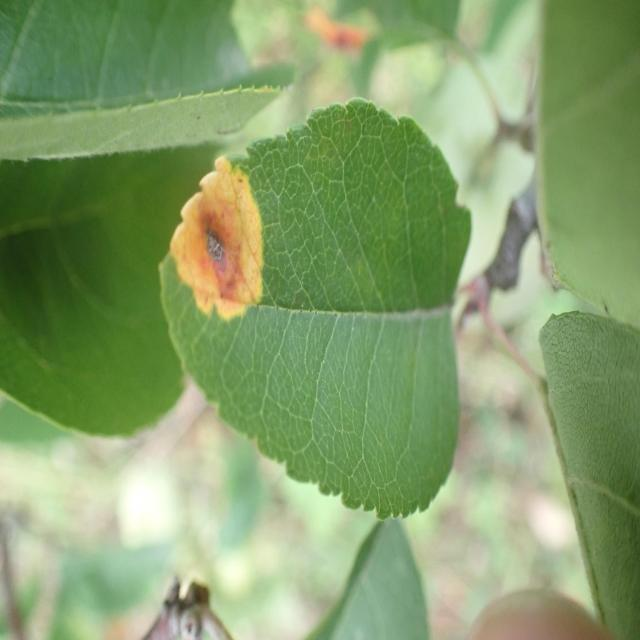Rust: (164, 146, 272, 322)
